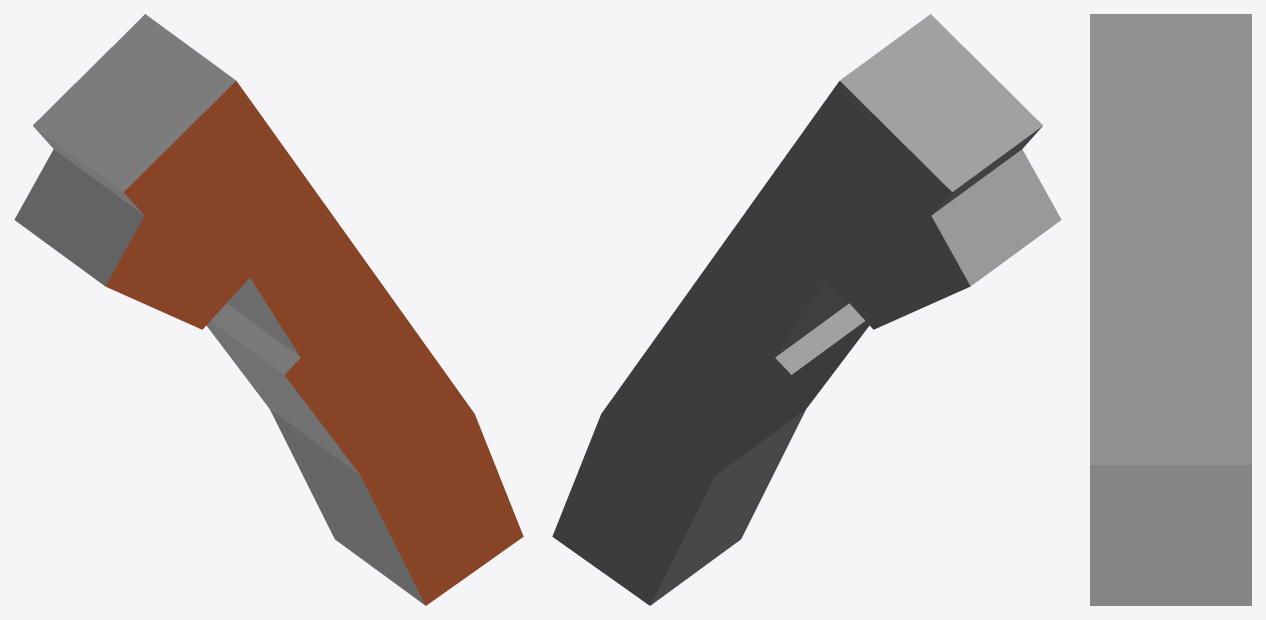
The model's file is construction_4849_assumed_A_Casa_h6m.obj.
3 views of the same model, side by side, from view 1: azimuth 30°, elevation 25°; view 2: azimuth 150°, elevation 25°; view 3: azimuth 270°, elevation 25° (orthographic). The views are drawn at different scales.
Parts seen in each view (by area): view 1: construction_4849_assumed_A_Casa; view 2: construction_4849_assumed_A_Casa; view 3: construction_4849_assumed_A_Casa.
Boxes of the visible parts, left/top/right/bottom form: construction_4849_assumed_A_Casa: left=14, top=14, right=523, bottom=605; construction_4849_assumed_A_Casa: left=552, top=14, right=1061, bottom=605; construction_4849_assumed_A_Casa: left=1090, top=14, right=1251, bottom=605.
Size of the model in its own units: 15.92 by 20.78 by 6.
